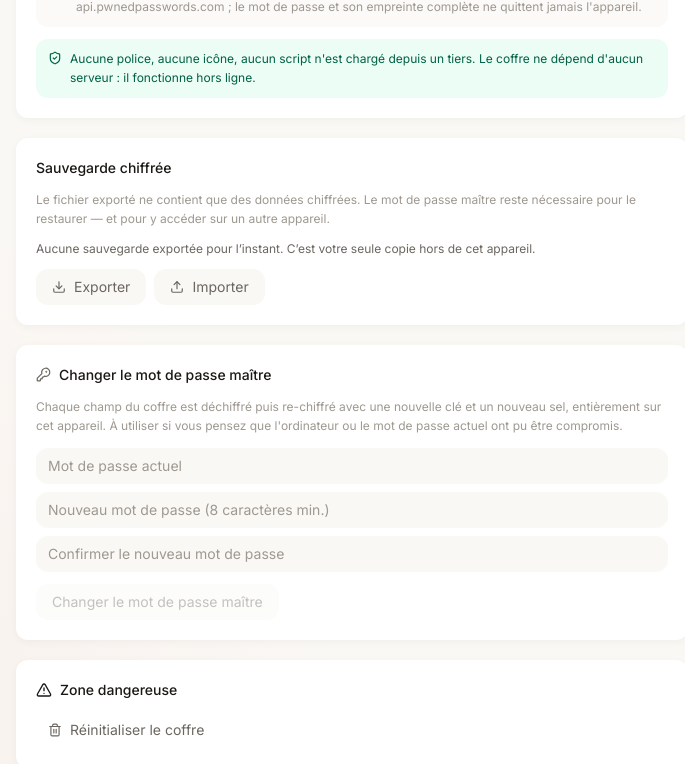
Test case: SettingsTab — rotation du mot de passe maître › surfaces the reason when the rotation is refused
The width and height of the screenshot is (685, 764).
(page scrolled)
Type "ancien-mdp" into the password field named "Mot de passe maître actuel" at (352, 466), box [36,448,668,484]
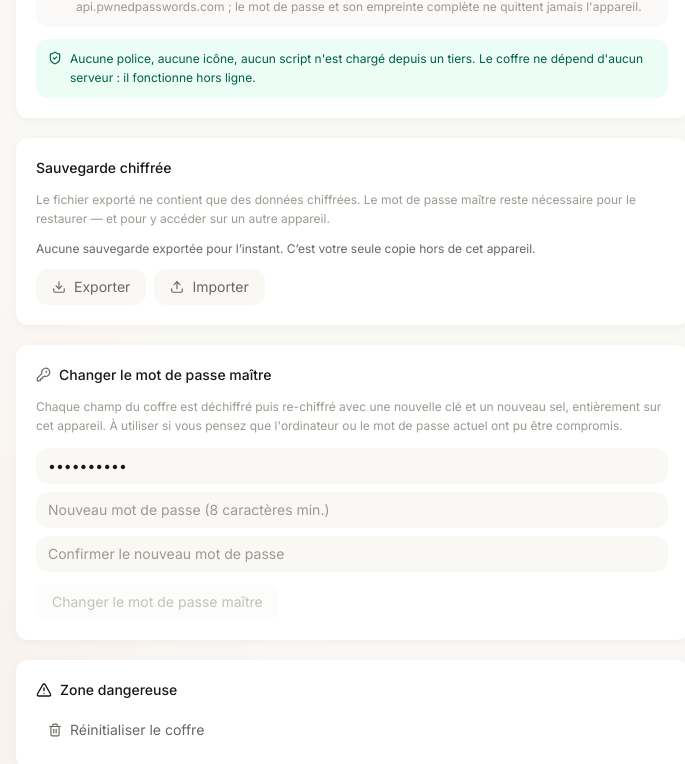
Type "aB3$xY9!qW2#zR7%" into the password field named "Nouveau mot de passe maître" at (352, 510), box [36,492,668,528]
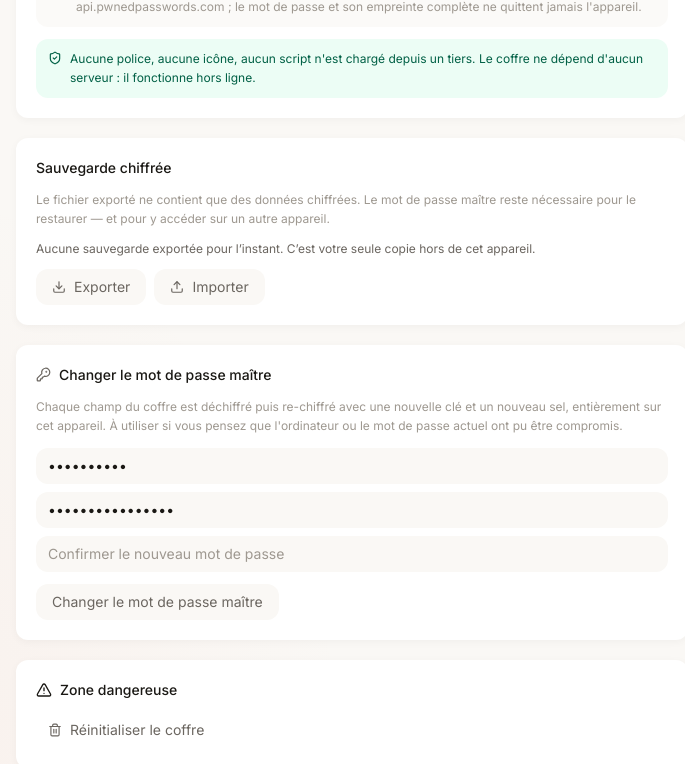
Type "aB3$xY9!qW2#zR7%" into the password field named "Confirmer le nouveau mot de passe maître" at (352, 554), box [36,536,668,572]
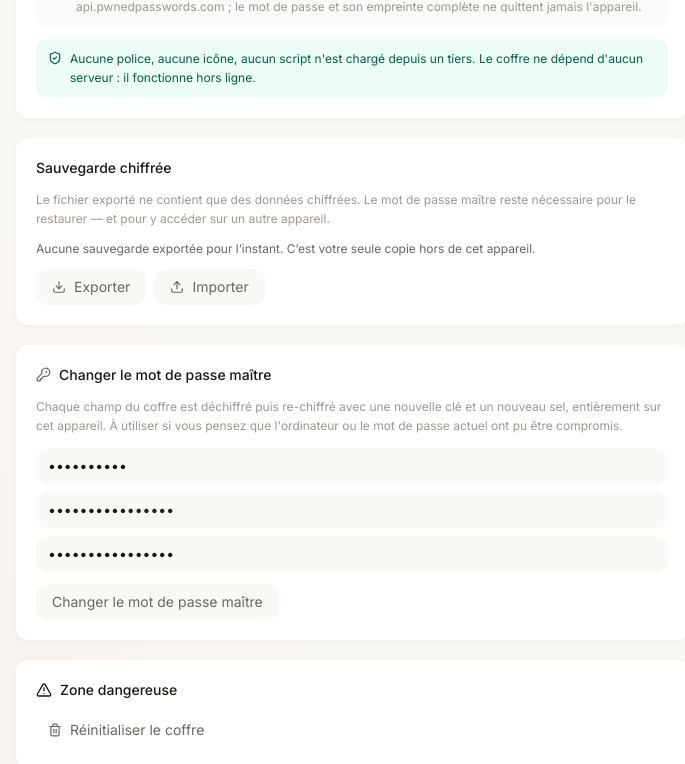
Click the button "Changer le mot de passe maître" at (157, 602), box [36,584,279,620]
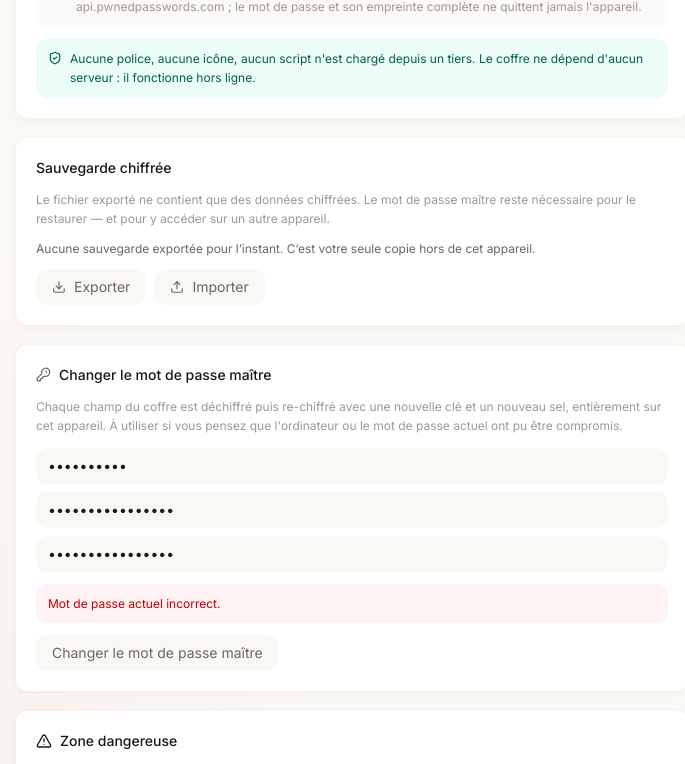
Check: the text "Mot de passe actuel incorrect." is shown, box [36,584,668,623]
